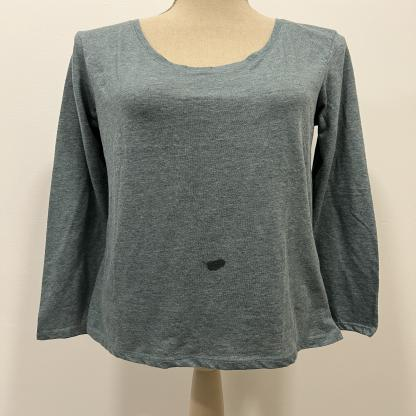stain: (195, 256, 228, 274)
